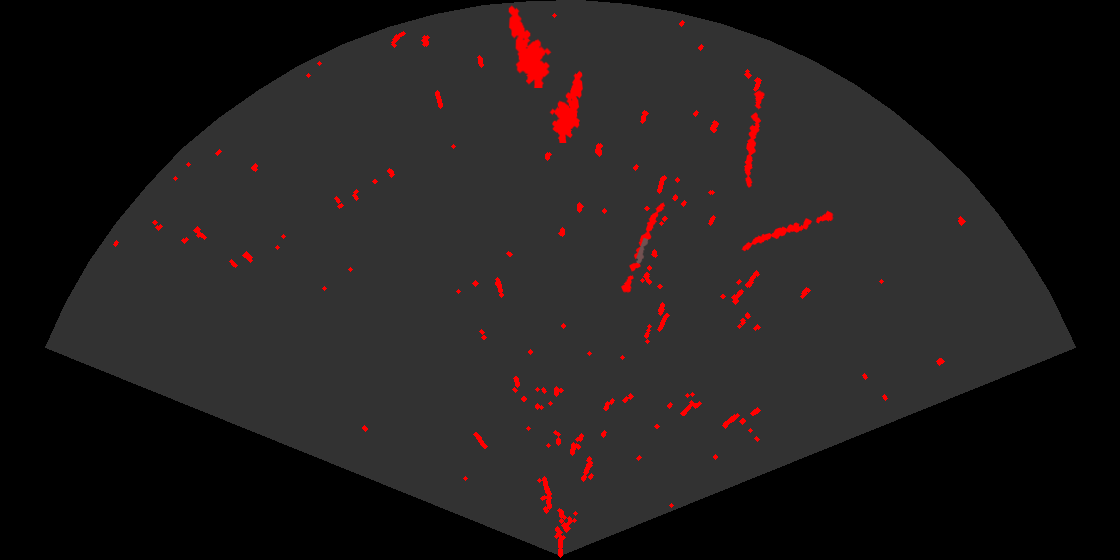chain: (620, 201, 667, 295), (740, 209, 835, 253), (742, 88, 766, 189)
frogman: (507, 4, 553, 88), (548, 69, 584, 143)
